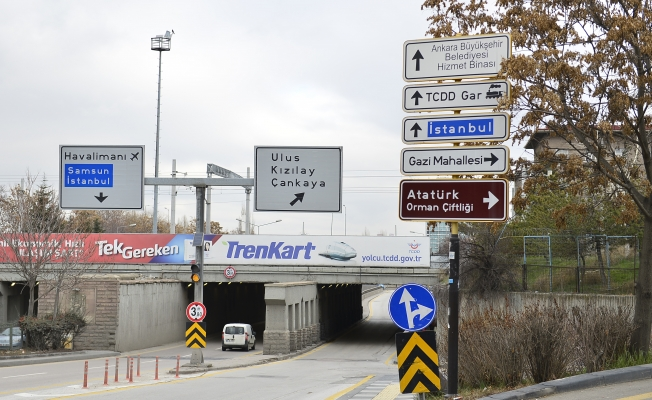ileri_veya_saga: (388, 285, 440, 331)
otomobil: (215, 313, 261, 354)
